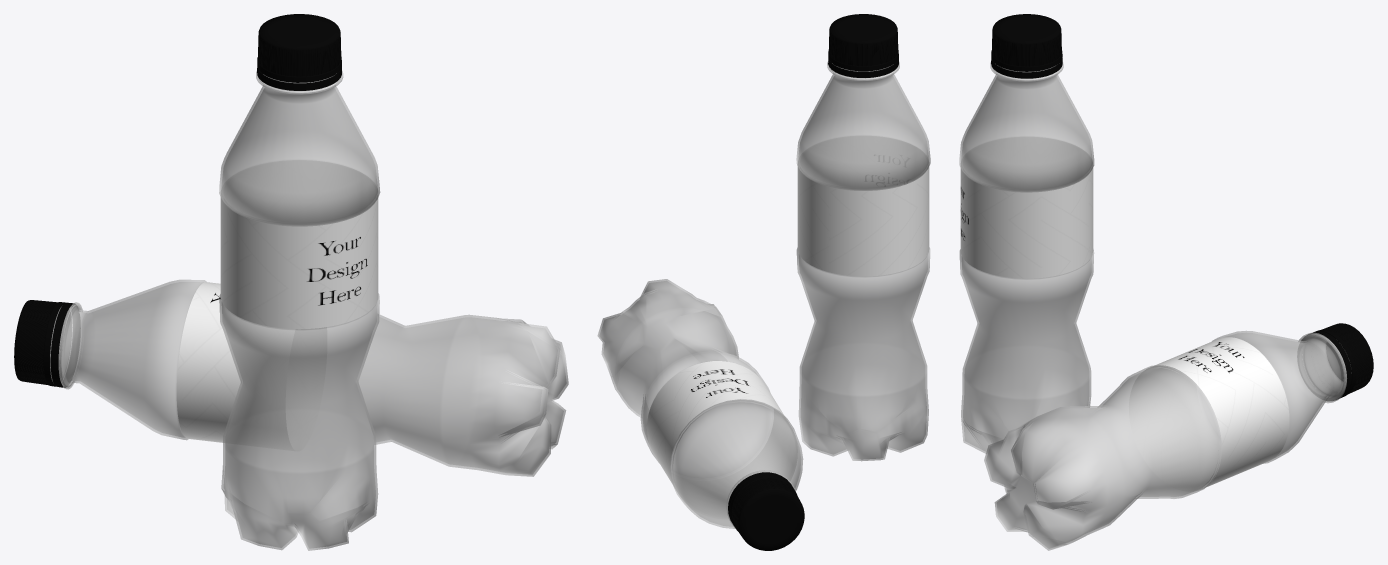
Rendered from Soft Drinks A-2.glb.
3 renders of one model, left to right at view 1: azimuth 30°, elevation 25°; view 2: azimuth 150°, elevation 25°; view 3: azimuth 270°, elevation 25°, orthographic. The views are drawn at different scales.
Parts seen in each view (by area): view 1: Bottle_Bottle.001_Cylinder.008, Bottle_Bottle.001_Cylinder.001, Label_Bottle.001_Cylinder.007, Label_Bottle.001_Cylinder.001, Plastic_Neck_Bottle.001_Cylinder.006, Plastic_Neck_Bottle.001_Cylinder.001; view 2: Bottle_Bottle.001_Cylinder.008, Bottle_Bottle.001_Cylinder.001, Label_Bottle.001_Cylinder.007, Label_Bottle.001_Cylinder.001, Plastic_Neck_Bottle.001_Cylinder.001, Plastic_Neck_Bottle.001_Cylinder.006; view 3: Bottle_Bottle.001_Cylinder.001, Bottle_Bottle.001_Cylinder.008, Label_Bottle.001_Cylinder.007, Label_Bottle.001_Cylinder.001, Plastic_Neck_Bottle.001_Cylinder.006, Plastic_Neck_Bottle.001_Cylinder.001.
Boxes of the visible parts, x1,y1,x2,y2 form: Bottle_Bottle.001_Cylinder.008: (219,71,380,550); Bottle_Bottle.001_Cylinder.001: (50,279,568,476); Label_Bottle.001_Cylinder.007: (220,190,378,329); Label_Bottle.001_Cylinder.001: (176,282,243,442); Plastic_Neck_Bottle.001_Cylinder.006: (257,14,341,90); Plastic_Neck_Bottle.001_Cylinder.001: (14,300,75,387); Bottle_Bottle.001_Cylinder.008: (796,61,930,461); Bottle_Bottle.001_Cylinder.001: (597,279,803,528); Label_Bottle.001_Cylinder.007: (797,160,929,276); Label_Bottle.001_Cylinder.001: (647,361,794,498); Plastic_Neck_Bottle.001_Cylinder.001: (728,472,804,550); Plastic_Neck_Bottle.001_Cylinder.006: (828,14,898,77); Bottle_Bottle.001_Cylinder.001: (984,330,1346,550); Bottle_Bottle.001_Cylinder.008: (959,62,1094,453); Label_Bottle.001_Cylinder.007: (960,161,1093,278); Label_Bottle.001_Cylinder.001: (1145,337,1289,490); Plastic_Neck_Bottle.001_Cylinder.006: (991,14,1062,78); Plastic_Neck_Bottle.001_Cylinder.001: (1305,323,1373,400).
Bounding box in the file's own units: 1.92 × 2.31 × 2.06.
Materials: 3 (1 with a texture image).
